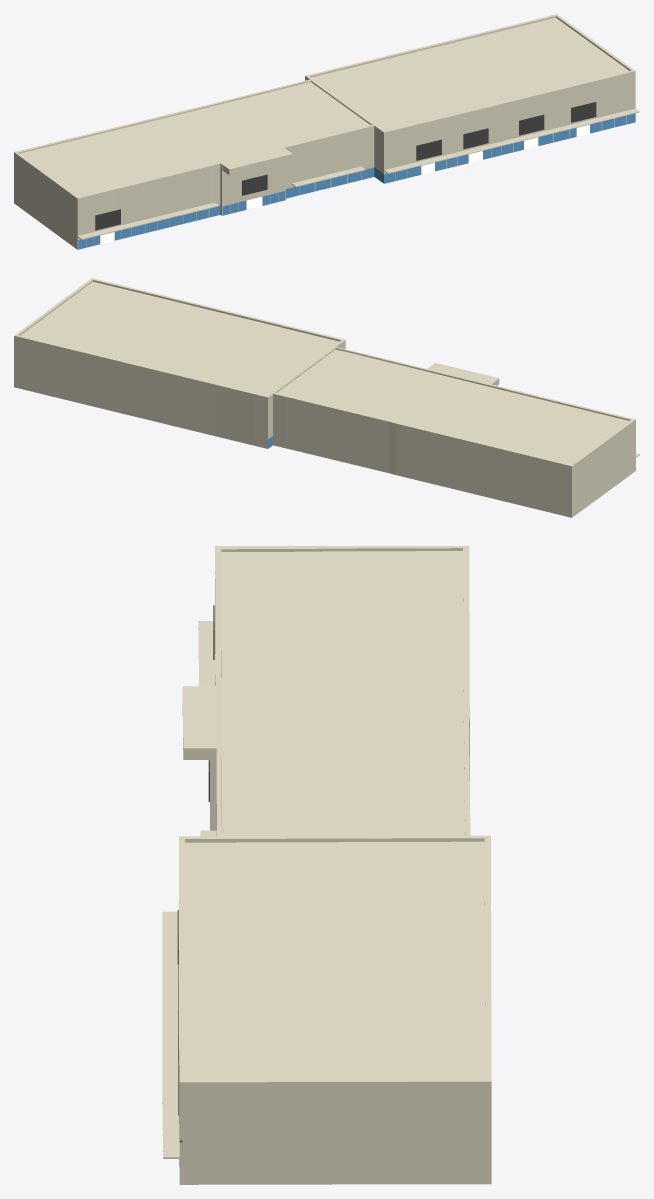
File: plein1_goossens.glb
3 views of the same model, one above another, from view 1: azimuth 30°, elevation 25°; view 2: azimuth 150°, elevation 25°; view 3: azimuth 270°, elevation 25° (orthographic). The views are drawn at different scales.
Visible parts, largest first — view 1: Cube.005; view 2: Cube.005; view 3: Cube.005.
Boxes of the visible parts, left/top/right/bottom form: Cube.005: left=14, top=14, right=639, bottom=249; Cube.005: left=14, top=278, right=639, bottom=517; Cube.005: left=162, top=546, right=491, bottom=1184.
Bounding box in the file's own units: 584 × 52.09 × 152.
